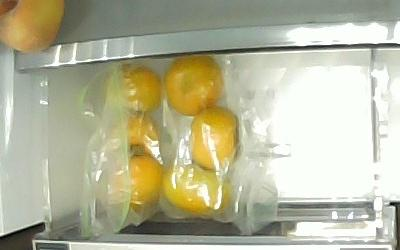persimmon_vinyl: (159, 156, 233, 217), (164, 54, 223, 116), (186, 105, 240, 171), (109, 152, 164, 212), (102, 62, 163, 114), (110, 112, 161, 157)
